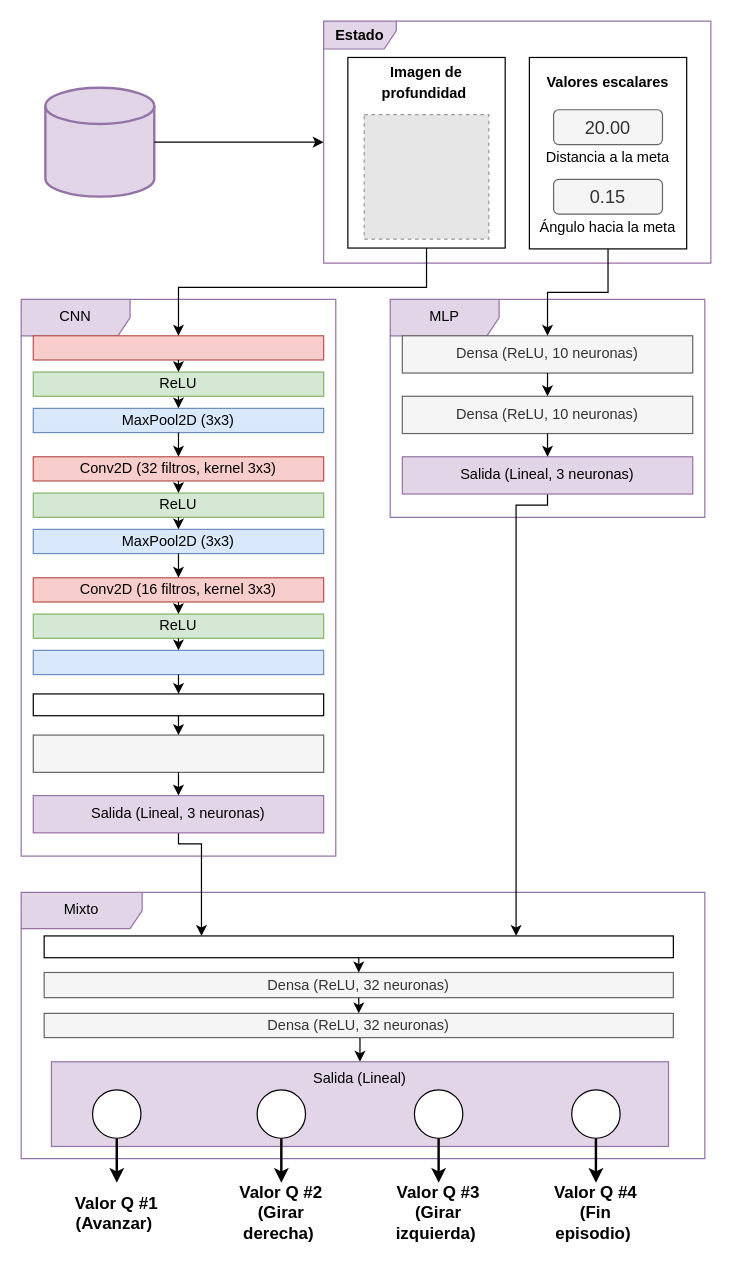
Some shapes in this 732 by 1264 pixel diagram are drawn without their labels. Grey dashed boxes stand in for pictures. Here are the shapes that lost their labels. From the top down, the centre of each, then its label:
At point (99, 141): "Muestra del Experience Replay".
At point (178, 347): "Conv2D (16 filtros, kernel 5x5)".
At point (178, 662): "MaxPool2D (2x2)".
At point (178, 704): "Flatten".
At point (178, 753): "Densa (ReLU, 64 neuronas)".
At point (358, 946): "Concatenación (6 neuronas)".
At point (116, 1113): "SAL 1".
At point (281, 1113): "SAL 2".
At point (438, 1113): "SAL 3".
At point (595, 1113): "SAL 4".
